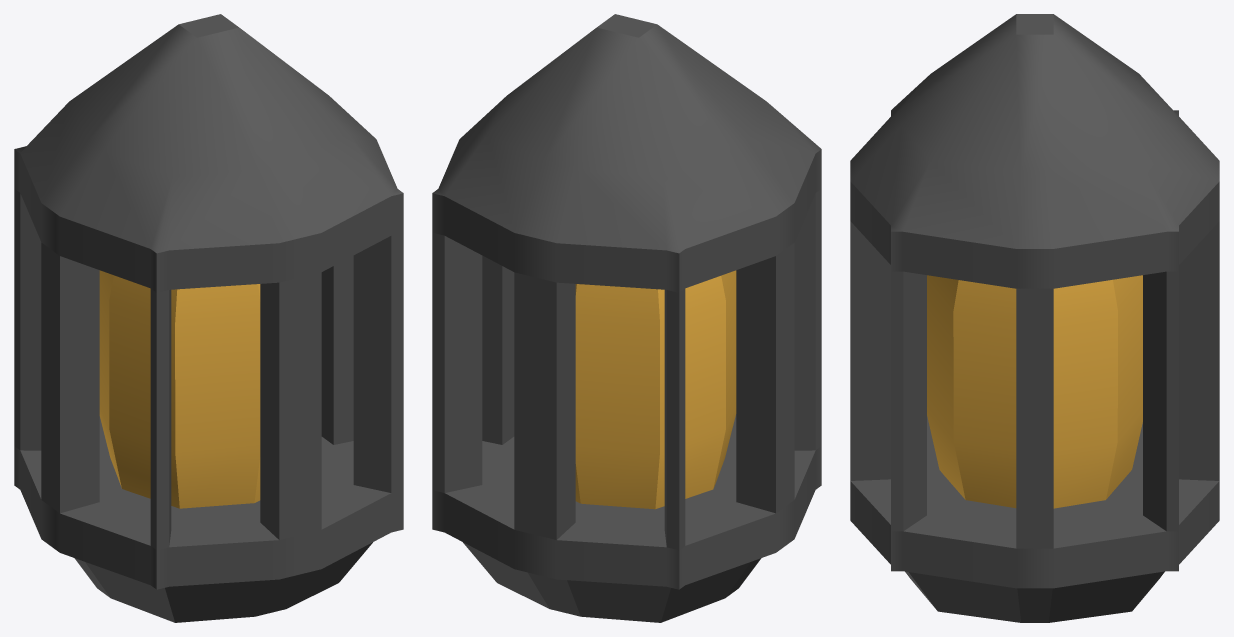
File: Mesh_lamp.fbx
The picture shows the model from 3 angles, left to right: view 1: azimuth 30°, elevation 25°; view 2: azimuth 150°, elevation 25°; view 3: azimuth 270°, elevation 25°; orthographic projection.
Parts seen in each view (by area): view 1: lamp; view 2: lamp; view 3: lamp.
Part boxes in pixels (left/top/right/bottom): lamp: left=14, top=14, right=403, bottom=622; lamp: left=432, top=14, right=821, bottom=622; lamp: left=850, top=14, right=1219, bottom=622.
Size of the model in its own units: 38.2 by 62.46 by 38.2.
1 material, 1 textured.
